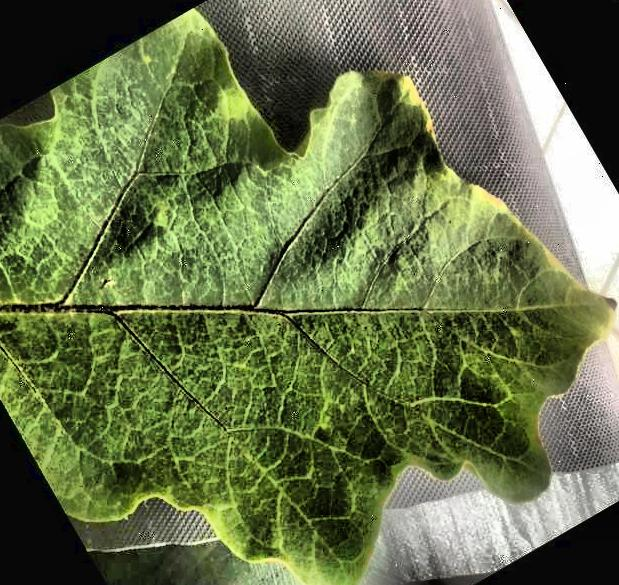Non-critical Stress: (0, 1, 619, 585)
